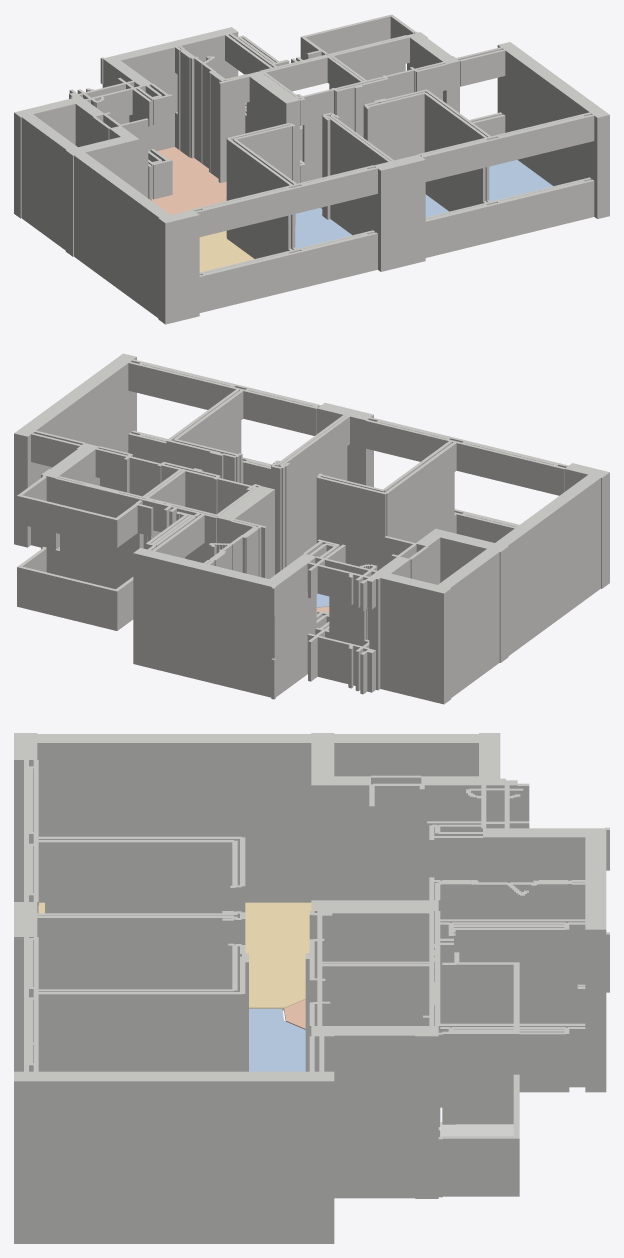
3 views of the same model, one above another, from view 1: azimuth 30°, elevation 25°; view 2: azimuth 150°, elevation 25°; view 3: azimuth 270°, elevation 25° (orthographic). The views are drawn at different scales.
Visible parts, largest first — view 1: walls, room:kitchen:0, room:bedroom:9, room:bedroom:7, room:living:6; view 2: walls; view 3: walls, room:living:6, room:bedroom:7, room:ledge:3.
Part boxes in pixels (box(x1,y1,x2,y2)): walls: box(14, 14, 609, 324); room:kitchen:0: box(151, 147, 226, 214); room:bedroom:9: box(489, 160, 552, 201); room:bedroom:7: box(295, 208, 351, 248); room:living:6: box(199, 230, 254, 272); walls: box(14, 353, 609, 704); walls: box(14, 733, 609, 1243); room:living:6: box(39, 902, 311, 1010); room:bedroom:7: box(249, 1008, 305, 1071); room:ledge:3: box(440, 1122, 513, 1136).
Bounding box in the file's own units: 12.86 × 2.8 × 9.3.
